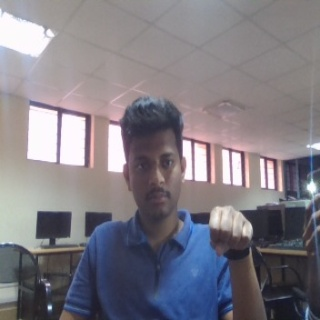Face: (121, 96, 188, 219)
Yes: (208, 205, 253, 262)
